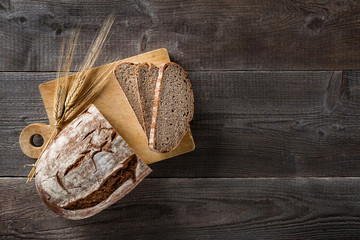slice of bread: (116, 62, 191, 155)
